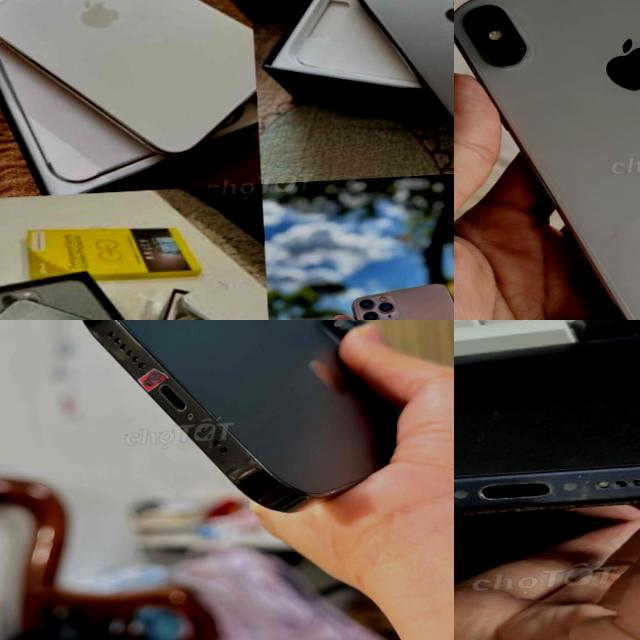gen_14: (73, 320, 444, 538)
gen_15: (454, 435, 640, 552)
gen_x_xs: (454, 0, 640, 320)
